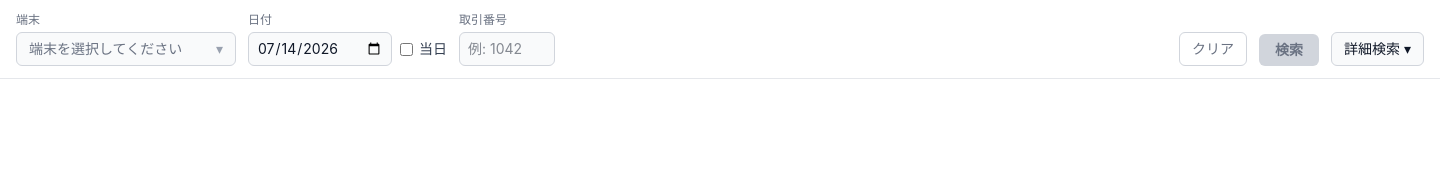
Test: SearchBar › 範囲入力のバリデーション › from <= toに直すとエラーメッセージが消え、検索ボタンが有効に戻る
Click the button "端末を選択してください ▾" at (126,49), box [16,32,236,66]
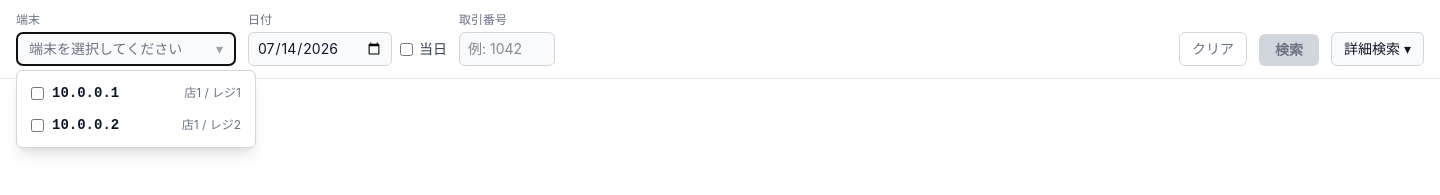
Click the text "10.0.0.1" at (86,93), box [52,83,119,103]
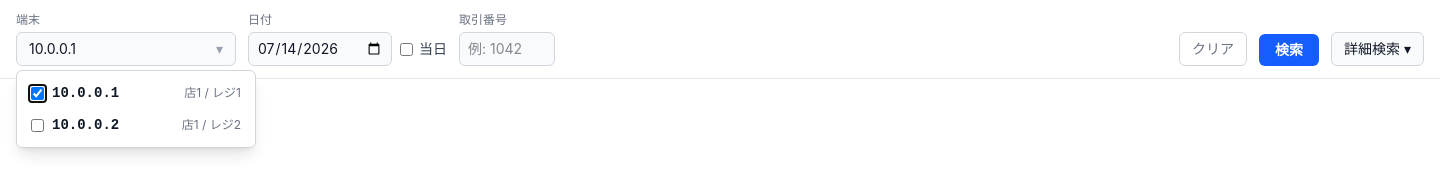
Click the button "詳細検索 ▾" at (1378,49), box [1331,32,1424,66]
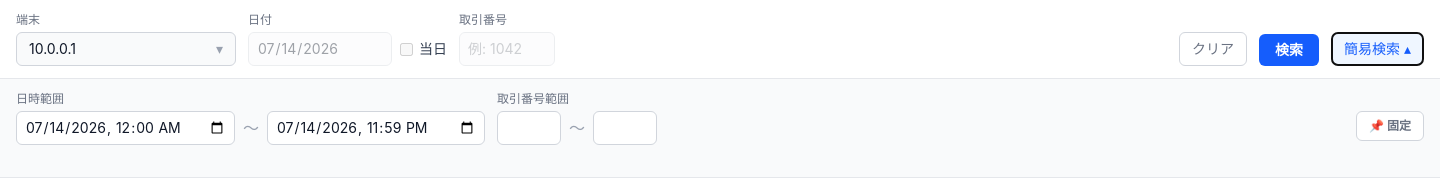
Type "20" into the number field named "取引番号範囲(開始)" at (529,128), box [497,111,561,145]
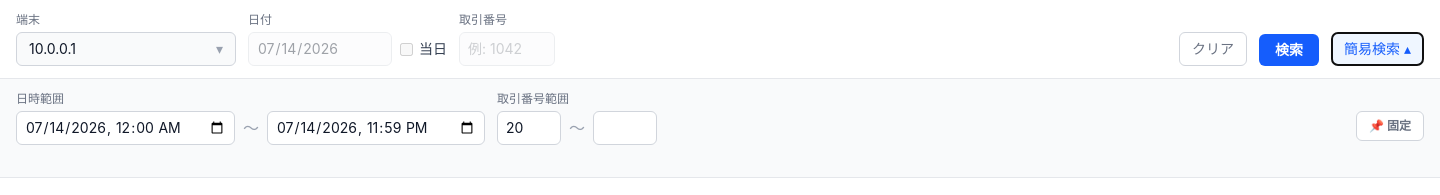
Type "10" into the number field named "取引番号範囲(終了)" at (625,128), box [593,111,657,145]
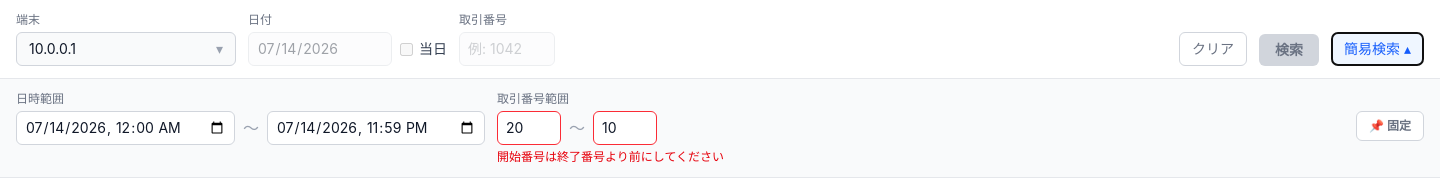
Replace the text in the number field named "取引番号範囲(終了)" with "30" at (625,128), box [593,111,657,145]
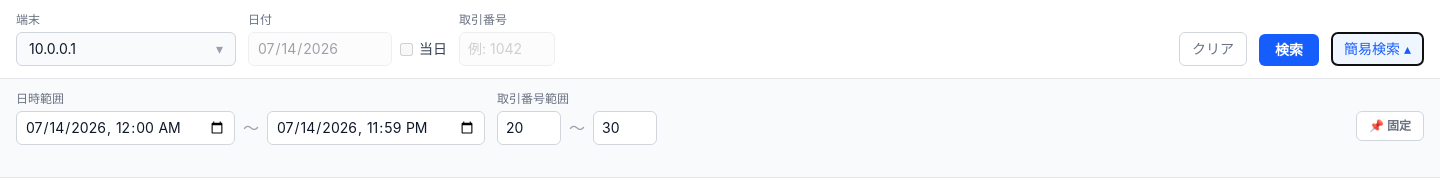
Result: the button "検索" is enabled at [1259,34,1319,66]
